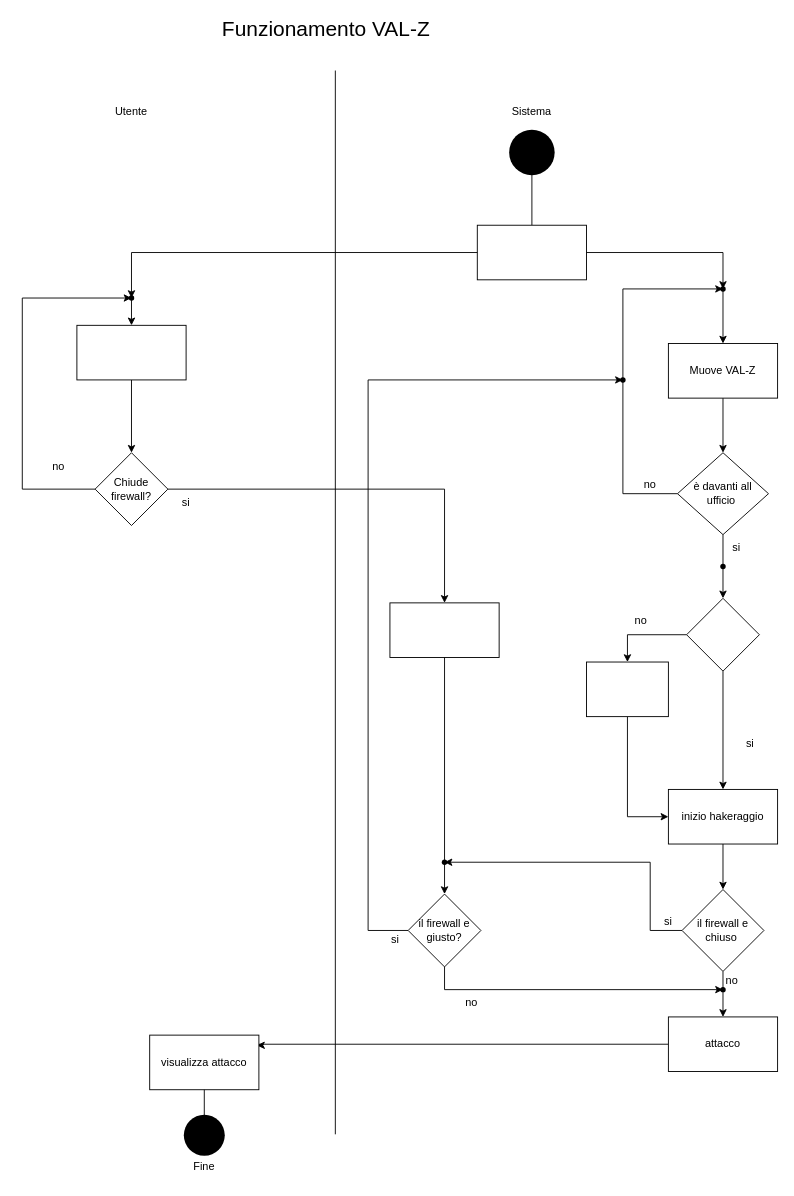
The diagram is 794 pixels wide and 1196 high, and some of its shapes have lost their labels. Here are the shapes that lost their labels. From the top down, the centre of each, then its label:
At point 531,252: "Avvia partita".
At point 131,352: "Guarda telecamere".
At point 444,629: "Chiusura firewall".
At point 722,634: "vuole ataccare?".
At point 627,689: "Si sposta nella stanza di fianco".
